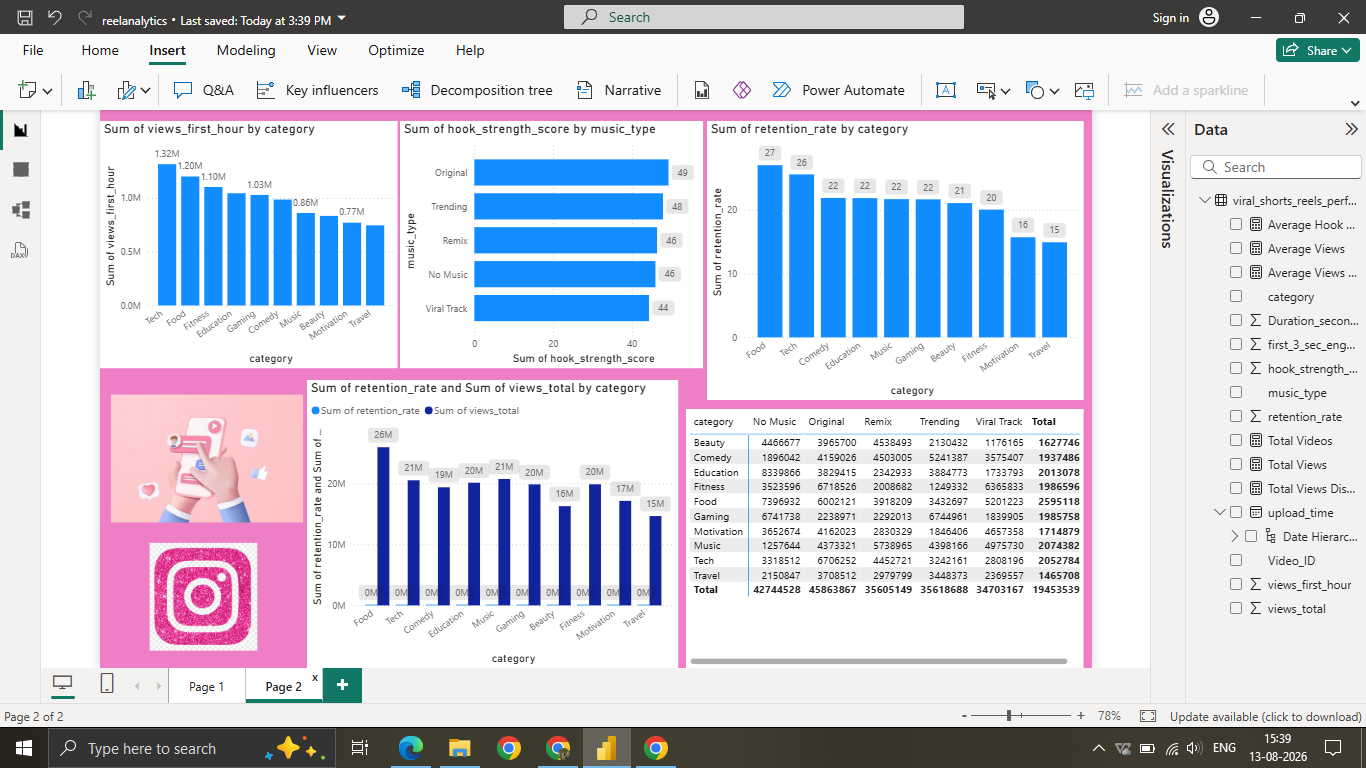

The dashboard page shown, as its layout file describes it:
{"tool":"powerbi","page":{"name":"Page 2","canvas":[1280,720],"ordinal":1},"visuals":[{"type":"pivotTable","fields":{"Rows":["viral_shorts_reels_performance_dataset.category"],"Values":["viral_shorts_reels_performance_dataset.Total Views"],"Columns":["viral_shorts_reels_performance_dataset.music_type"]},"box":[756.3,385.5,513.1,335],"z":0},{"type":"columnChart","fields":{"Category":["viral_shorts_reels_performance_dataset.category"],"Y":["Sum(viral_shorts_reels_performance_dataset.retention_rate)"]},"box":[782.9,14.6,486.5,360.2],"z":2},{"type":"columnChart","fields":{"Category":["viral_shorts_reels_performance_dataset.category"],"Y":["Sum(viral_shorts_reels_performance_dataset.views_first_hour)"]},"box":[0,14.6,384.1,319],"z":3},{"type":"clusteredBarChart","fields":{"Category":["viral_shorts_reels_performance_dataset.music_type"],"Y":["Sum(viral_shorts_reels_performance_dataset.hook_strength_score)"]},"box":[386.8,14.6,390.8,319],"z":4},{"type":"clusteredColumnChart","fields":{"Y":["Sum(viral_shorts_reels_performance_dataset.retention_rate)","Sum(viral_shorts_reels_performance_dataset.views_total)"],"Category":["viral_shorts_reels_performance_dataset.category"]},"box":[267.2,348.2,478.5,372.2],"z":5},{"type":"image","box":[0,552.9,267.2,148.9],"z":6},{"type":"image","box":[9.3,263.2,257.9,372.2],"z":7}]}

Visuals, with their boxes on the page's 1280x720 design canvas (x1, y1, x2, y2). These are canvas units, not pixel positions in the 1366x768 screenshot, which may show the page scaled, cropped or inside an application window:
pivotTable - viral_shorts_reels_performance_dataset.category x viral_shorts_reels_performance_dataset.Total Views: bbox=(756, 386, 1269, 720)
columnChart - viral_shorts_reels_performance_dataset.category x Sum(viral_shorts_reels_performance_dataset.retention_rate): bbox=(783, 15, 1269, 375)
columnChart - viral_shorts_reels_performance_dataset.category x Sum(viral_shorts_reels_performance_dataset.views_first_hour): bbox=(0, 15, 384, 334)
clusteredBarChart - viral_shorts_reels_performance_dataset.music_type x Sum(viral_shorts_reels_performance_dataset.hook_strength_score): bbox=(387, 15, 778, 334)
clusteredColumnChart - Sum(viral_shorts_reels_performance_dataset.retention_rate) x Sum(viral_shorts_reels_performance_dataset.views_total): bbox=(267, 348, 746, 720)
image: bbox=(0, 553, 267, 702)
image: bbox=(9, 263, 267, 635)
